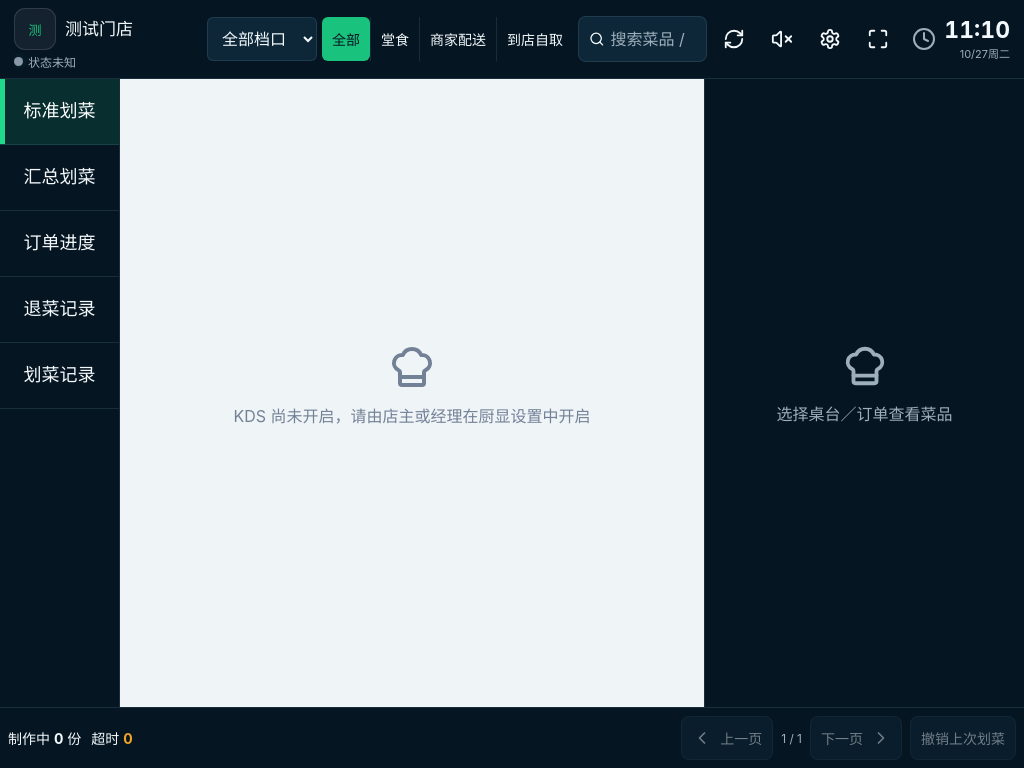
Scenario: KDS operational controls › leaves a new or unconfigured merchant serving switch off
The image size is (1024, 768).
Expected: the element with class "kds-nav" does not show "待传菜"
What coordinates should you click on to do the following:
click the button named "厨显设置"
I would click on:
 (830, 39)
Its box is top-left (808, 17), bottom-right (852, 61).
(page scrolled)
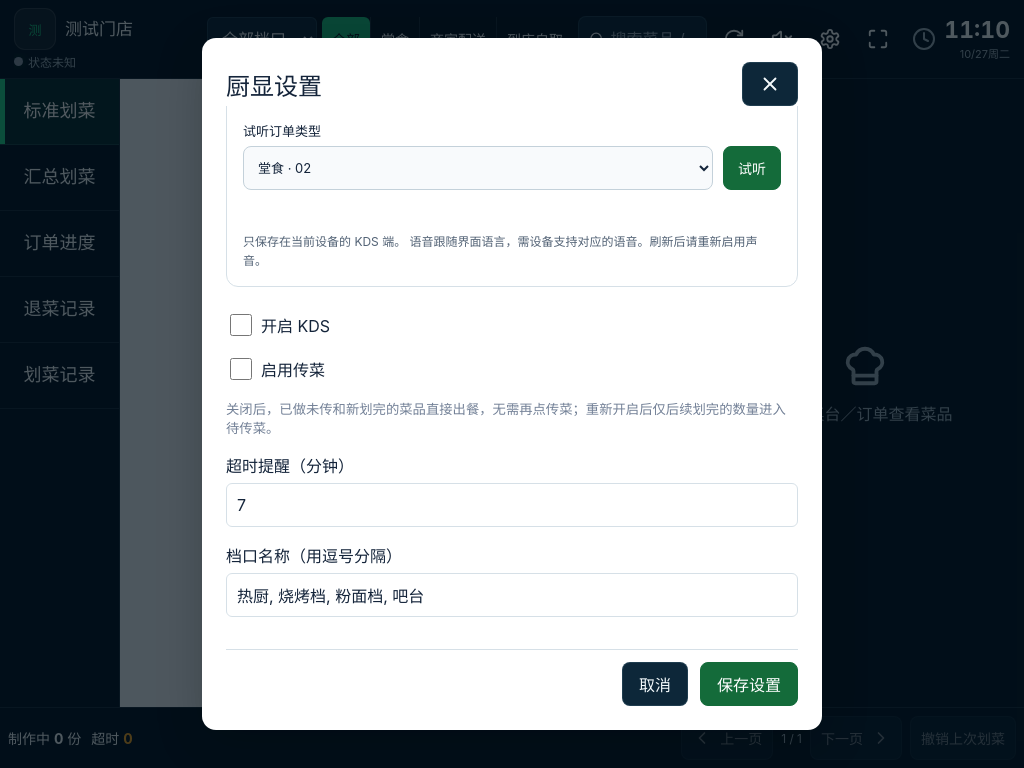
Result: the checkbox labelled "启用传菜" is not checked at top-left (230, 358), bottom-right (252, 380)
